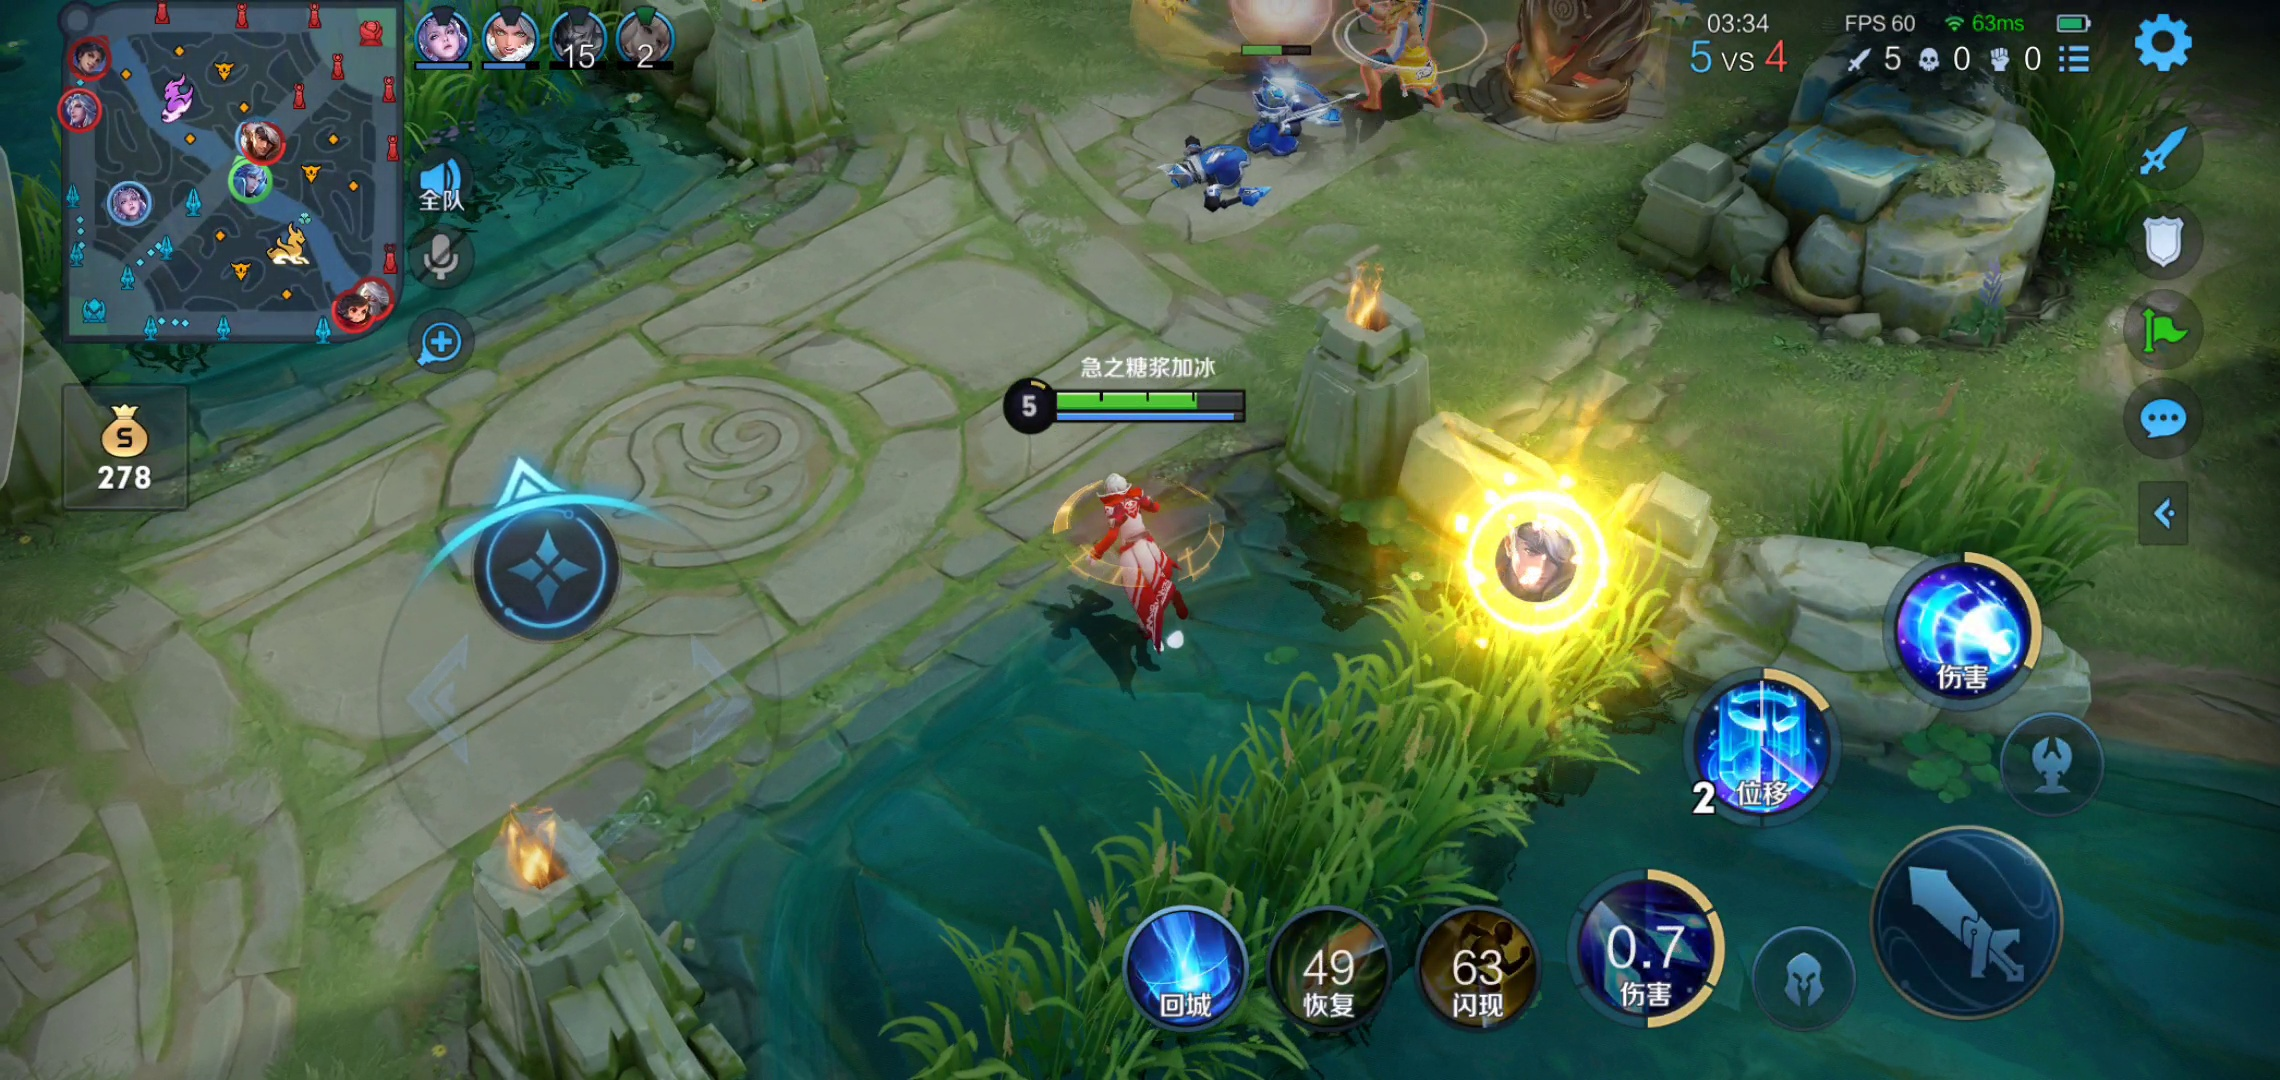grass: (979, 544, 1645, 1080), (1802, 424, 2090, 612), (2039, 60, 2152, 225)
hero: (1060, 456, 1239, 640), (1346, 1, 1460, 121)
soldier: (1240, 68, 1320, 161)
tower: (1508, 1, 1656, 137)
